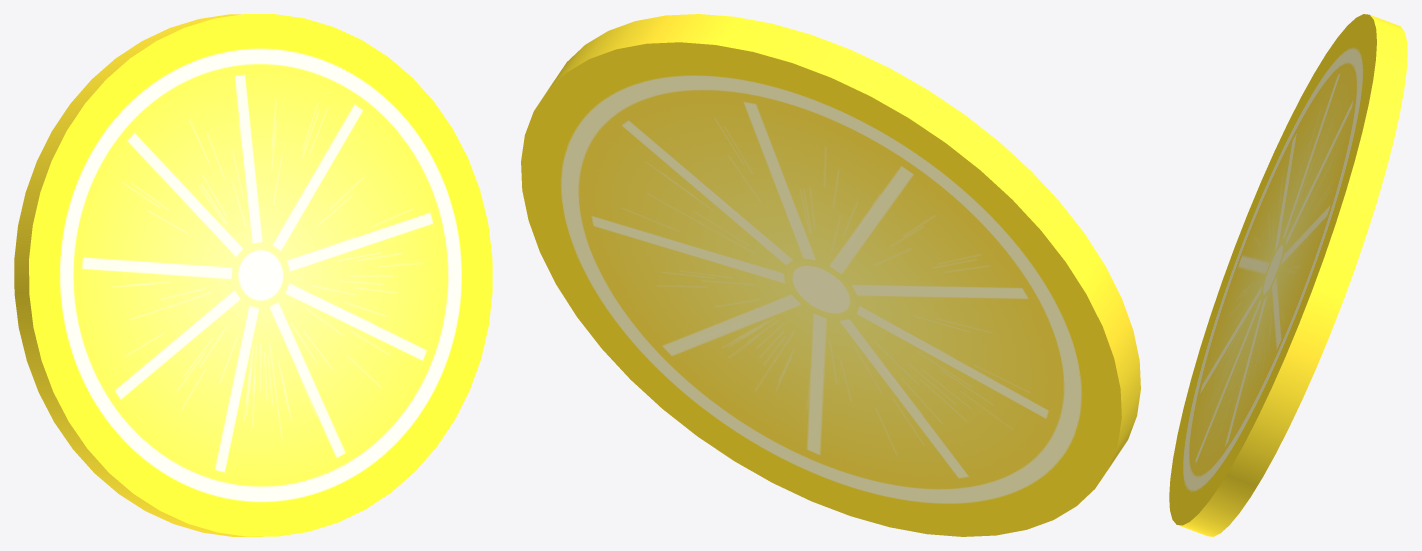
Rendered from lemon-slice.glb.
The picture shows the model from 3 angles, left to right: view 1: azimuth 30°, elevation 25°; view 2: azimuth 150°, elevation 25°; view 3: azimuth 270°, elevation 25°; orthographic projection. The views are drawn at different scales.
Size of the model in its own units: 1.51 by 1.43 by 0.6598.
2 materials, 1 textured.
